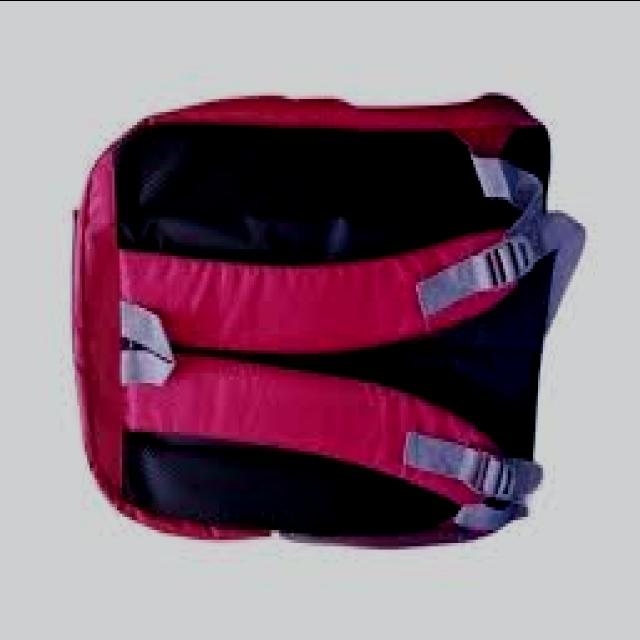backpack: (71, 93, 587, 553)
